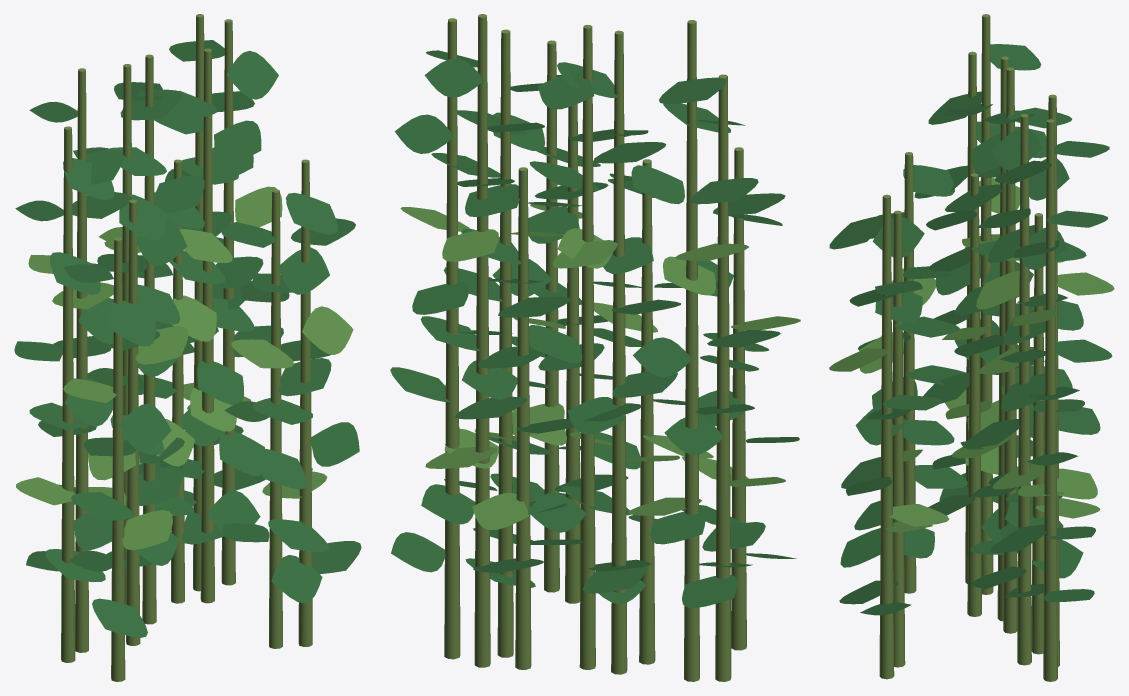
Rendered from jute-stand.glb.
3 views of the same model, side by side, from view 1: azimuth 30°, elevation 25°; view 2: azimuth 150°, elevation 25°; view 3: azimuth 270°, elevation 25° (orthographic). The views are drawn at different scales.
Parts seen in each view (by area): view 1: jute-stem-1, jute-stem-10, jute-stem-5, jute-stem-11, jute-stem-4, jute-stem-9, jute-stem-8, jute-stem-2, jute-stem-12, jute-stem-3, jute-stem-6, jute-stem-7 (+70 smaller); view 2: jute-stem-12, jute-stem-7, jute-stem-5, jute-stem-1, jute-stem-6, jute-stem-2, jute-stem-10, jute-stem-3, jute-stem-8, jute-stem-11, jute-stem-4, jute-stem-9 (+51 smaller); view 3: jute-stem-2, jute-stem-9, jute-stem-10, jute-stem-8, jute-stem-4, jute-stem-12, jute-stem-5, jute-stem-3, jute-stem-11, jute-stem-7, jute-stem-1, jute-stem-6 (+59 smaller).
Part boxes in pixels (x1,y1,x2,y2): jute-stem-1: (61, 126, 75, 662); jute-stem-10: (200, 48, 214, 603); jute-stem-5: (75, 68, 88, 652); jute-stem-11: (111, 237, 125, 681); jute-stem-4: (269, 189, 282, 648); jute-stem-9: (298, 159, 312, 646); jute-stem-8: (126, 199, 140, 645); jute-stem-2: (221, 19, 235, 585); jute-stem-12: (142, 54, 156, 624); jute-stem-3: (171, 159, 184, 603); jute-stem-6: (193, 14, 204, 591); jute-stem-7: (122, 64, 131, 604); jute-stem-12: (579, 25, 595, 669); jute-stem-7: (611, 30, 627, 674); jute-stem-5: (684, 20, 699, 681); jute-stem-1: (715, 74, 731, 681); jute-stem-6: (474, 14, 490, 667); jute-stem-2: (444, 18, 460, 659); jute-stem-10: (497, 29, 513, 657); jute-stem-3: (515, 167, 531, 669); jute-stem-8: (639, 159, 655, 664); jute-stem-11: (731, 147, 746, 650); jute-stem-4: (565, 104, 580, 603); jute-stem-9: (544, 40, 559, 592); jute-stem-2: (1043, 119, 1057, 681); jute-stem-9: (879, 194, 894, 679); jute-stem-10: (1017, 114, 1031, 665); jute-stem-8: (967, 173, 981, 616); jute-stem-4: (892, 210, 905, 667); jute-stem-12: (1003, 67, 1017, 633); jute-stem-5: (980, 14, 993, 594); jute-stem-3: (1031, 213, 1044, 654); jute-stem-11: (903, 152, 916, 593); jute-stem-7: (997, 56, 1008, 621); jute-stem-1: (965, 51, 977, 583); jute-stem-6: (1048, 94, 1059, 666).
Bounding box in the file's own units: 1.54 × 2.78 × 1.25.
